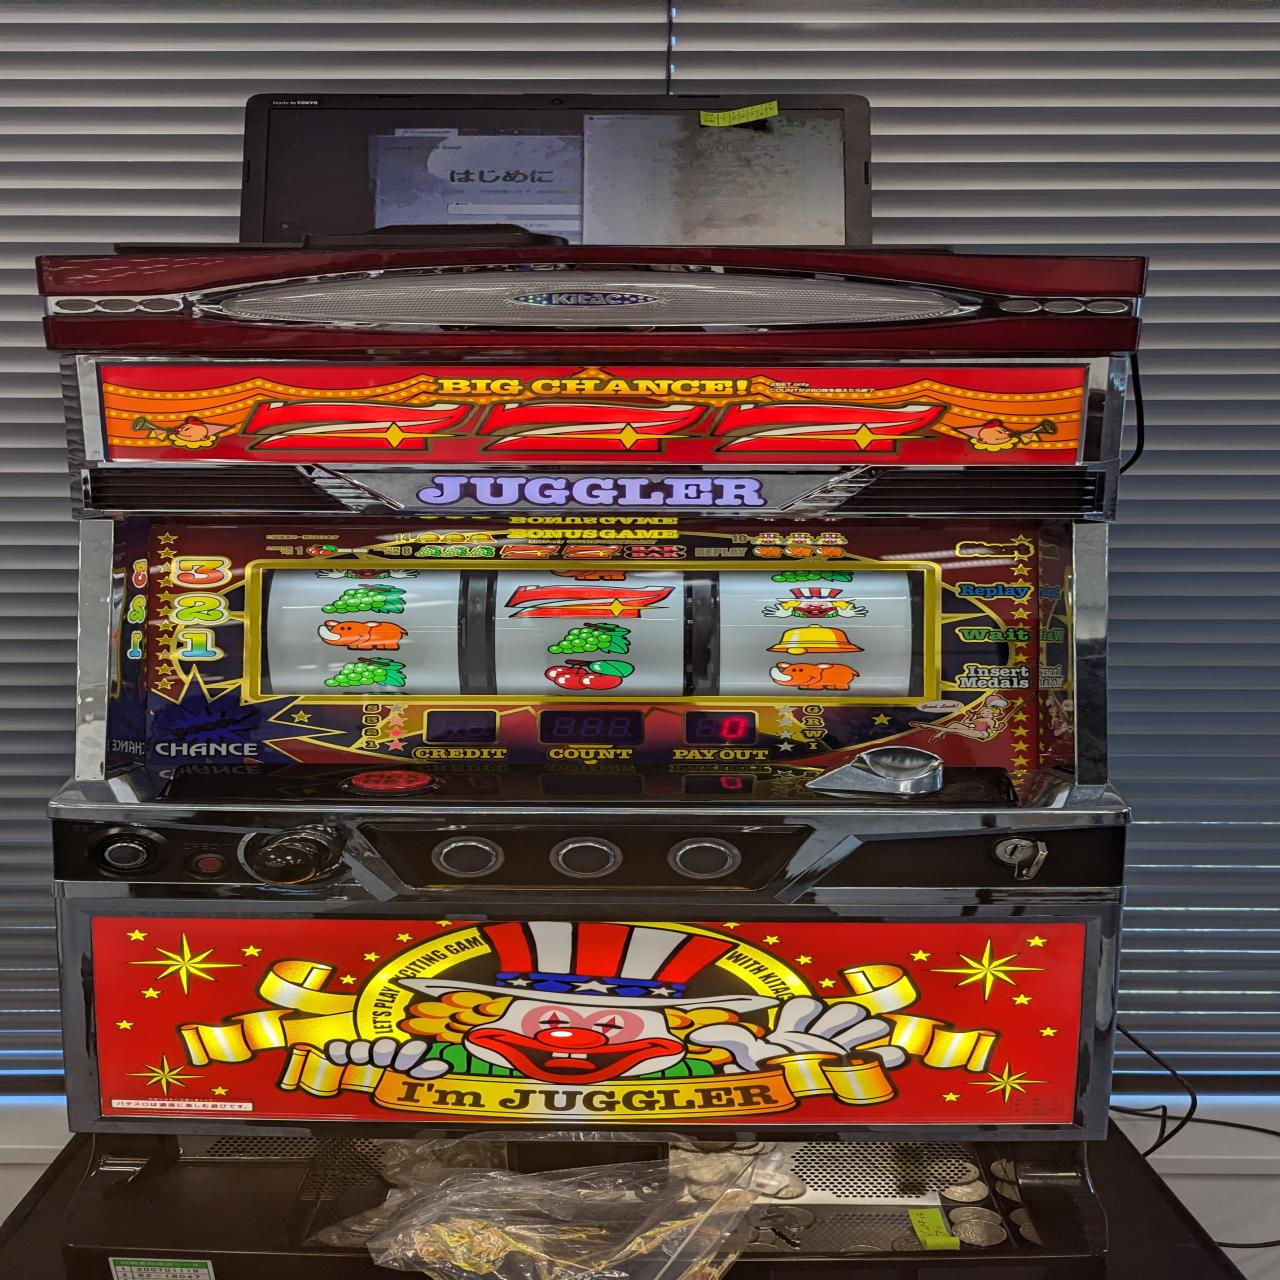7: (504, 585, 673, 619)
8: (316, 620, 408, 651), (768, 662, 862, 690)
Display: (247, 561, 933, 701)
bell: (767, 624, 866, 655)
cherry: (543, 659, 634, 689)
clown: (762, 587, 871, 622)
grape: (321, 583, 409, 617), (321, 656, 411, 689), (549, 621, 631, 655)
